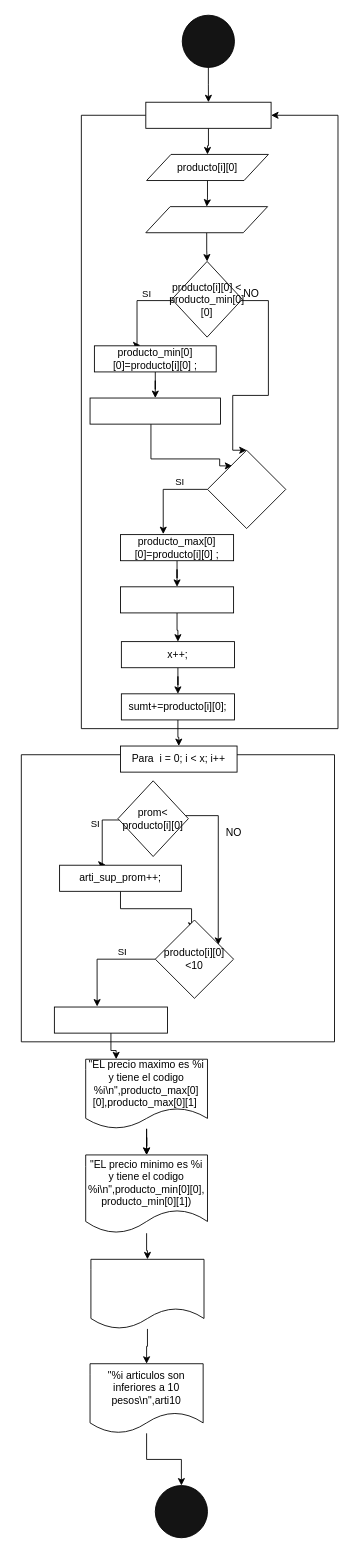
Image size: 360x1553. Some labels were removed from this diagram. The box of each missing label's shape, as (x1, y1, x2, y2) in pixels:
"%i articulos superaron al promedio \n", arti_sup_prom: (90, 1258, 204, 1329)
arti10++;: (54, 1006, 167, 1033)
Para i = 0; i <10 ; i++: (145, 101, 271, 128)
producto[i][0] > producto_max[0][0]: (207, 449, 286, 529)
producto[i][1]: (145, 206, 268, 233)
producto_max[0][1]= producto[i][1];: (120, 586, 234, 613)
producto_min[0][1]= producto[i][1];: (89, 397, 221, 424)
